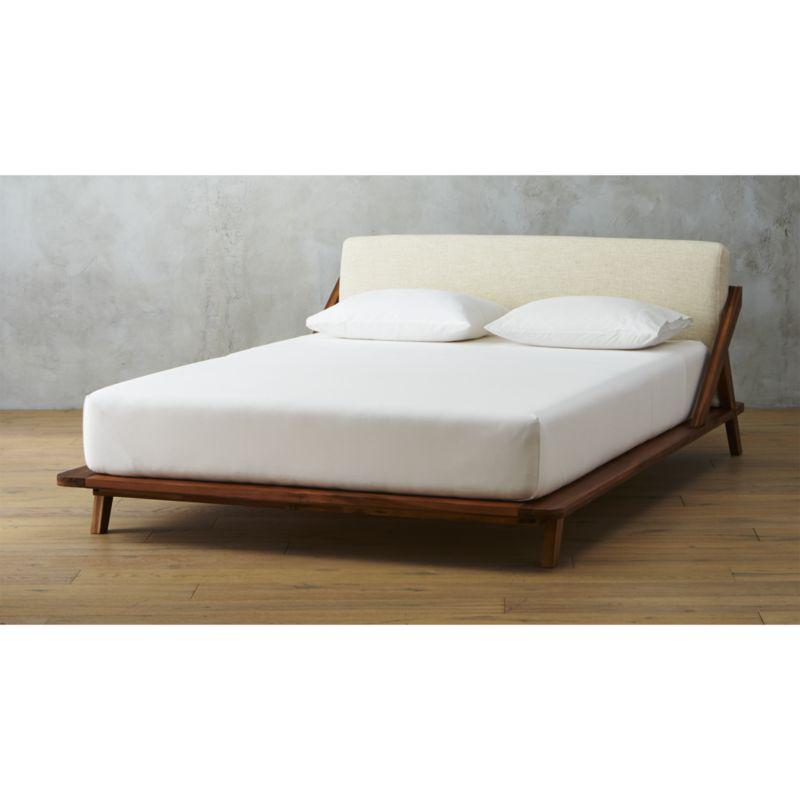bed: (45, 210, 770, 574)
